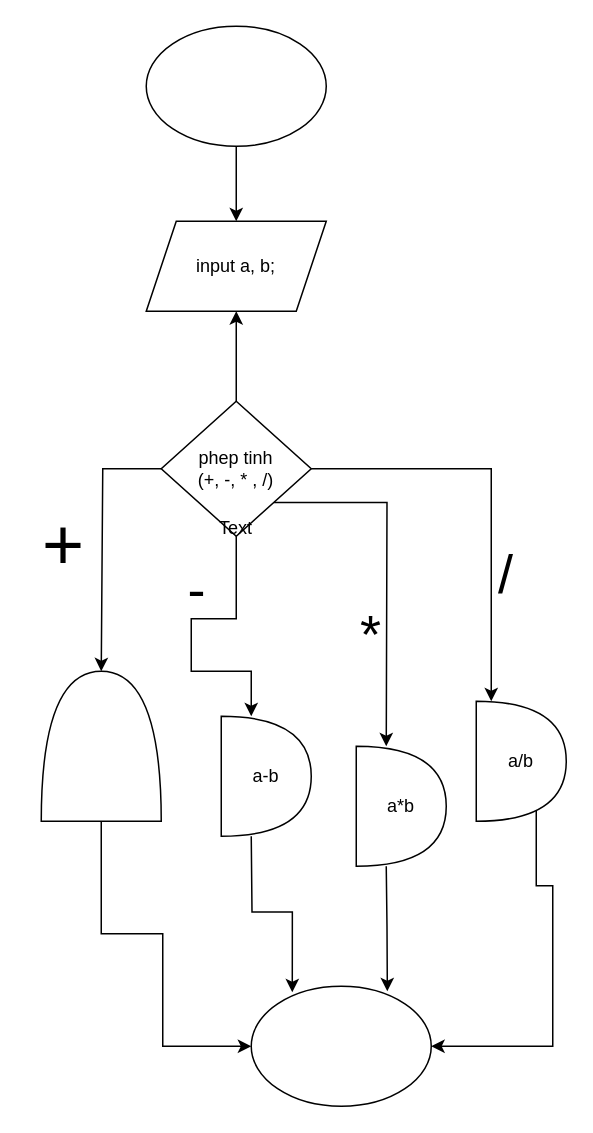
Image size: 593x1133. Some labels were removed from this diagram. The shapes that lost their labels are listed below. From the top down, each one's box as (x1, y1, x2, y2) in pixels, then its label:
(145, 25, 326, 146): START
(40, 670, 161, 821): a+b
(250, 985, 431, 1106): END
